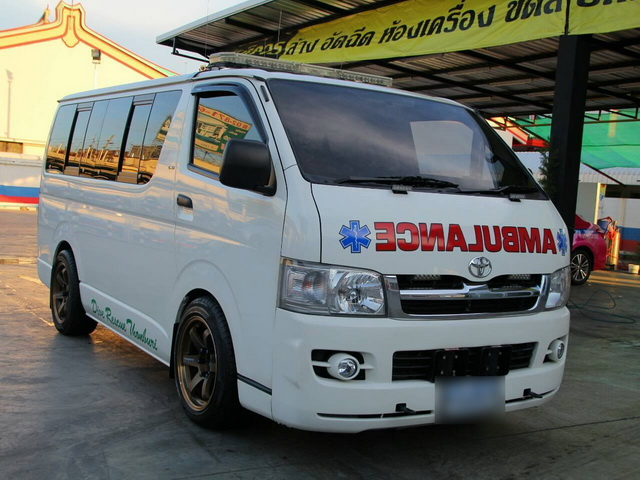van: (34, 60, 577, 439)
